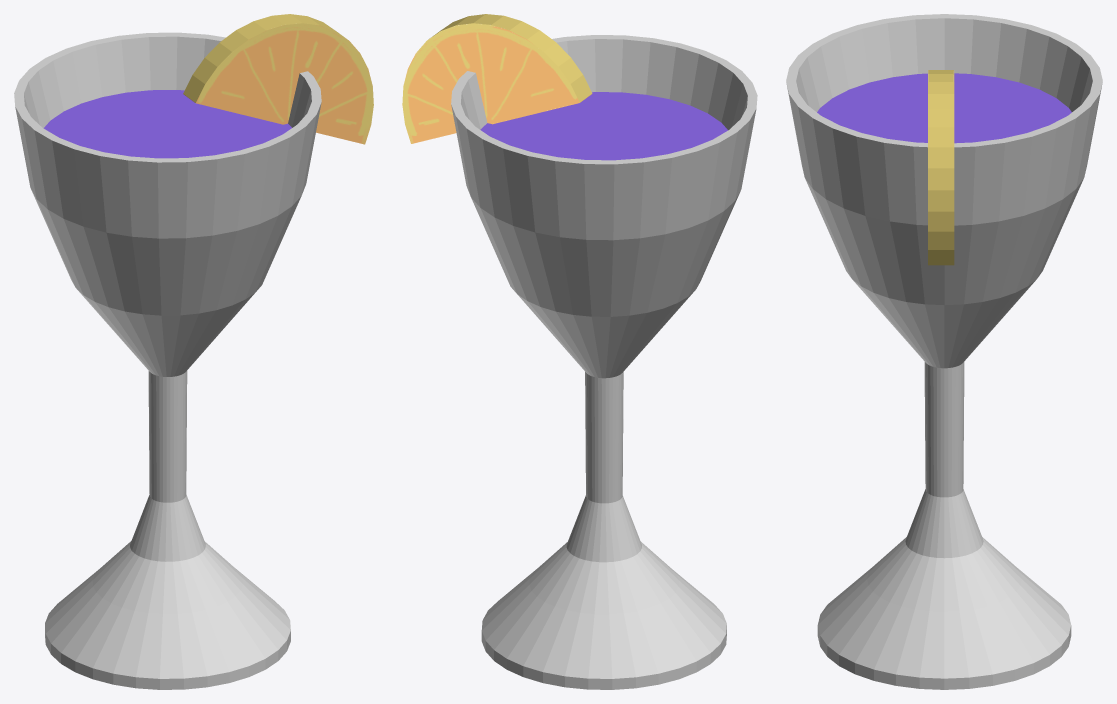
File: cocktail.glb
3 renders of one model, left to right at view 1: azimuth 30°, elevation 25°; view 2: azimuth 150°, elevation 25°; view 3: azimuth 270°, elevation 25°, orthographic. The views are drawn at different scales.
Visible parts, largest first — view 1: Glass, Lemon, Drink; view 2: Glass, Lemon, Drink; view 3: Glass, Drink, Lemon.
Boxes of the visible parts, x1,y1,x2,y2 form: Glass: (14, 32, 321, 689); Lemon: (183, 14, 373, 144); Drink: (43, 90, 291, 158); Glass: (451, 35, 757, 689); Lemon: (402, 14, 592, 143); Drink: (480, 92, 727, 160); Glass: (786, 14, 1102, 689); Drink: (817, 73, 1071, 143); Lemon: (928, 70, 954, 265).
Size of the model in its own units: 2.48 by 4.24 by 2.
Materials: 3 (1 with a texture image).
